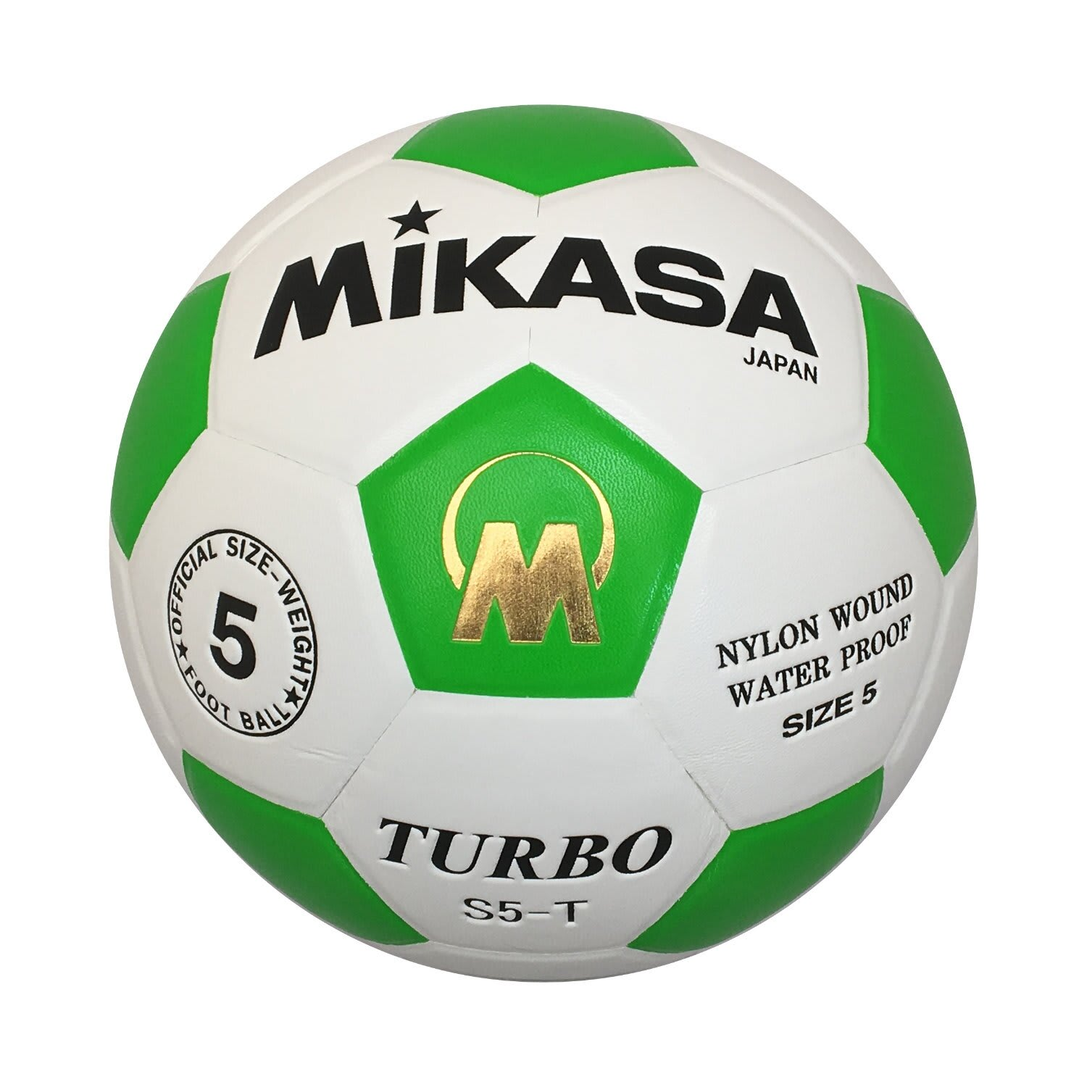sphere: (109, 104, 979, 983)
